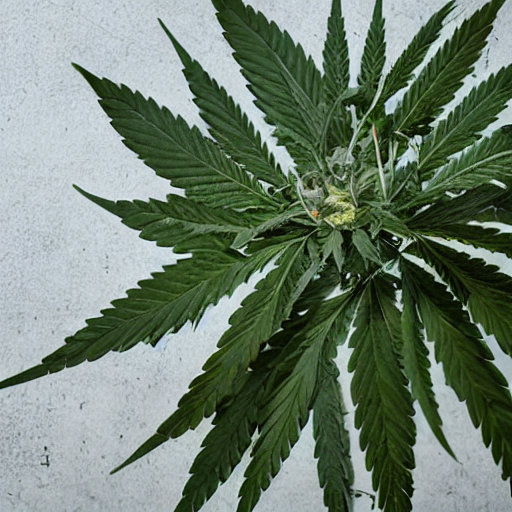Marijuana Joint: (78, 1, 512, 480)
